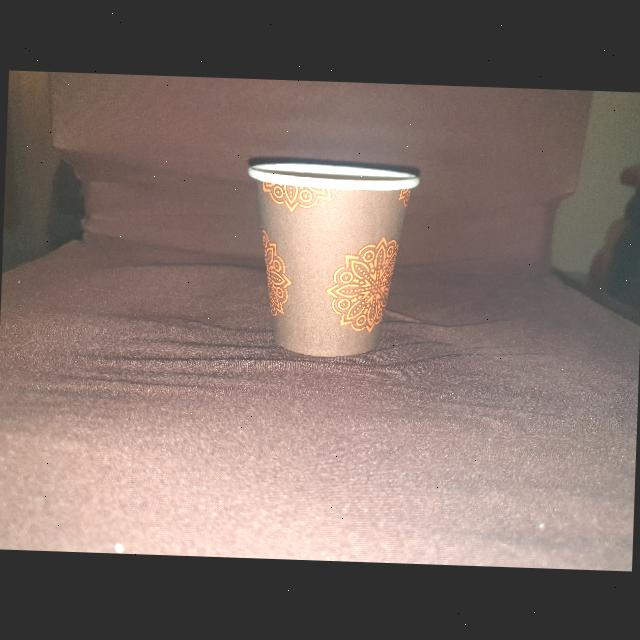trash: (234, 154, 424, 366)
